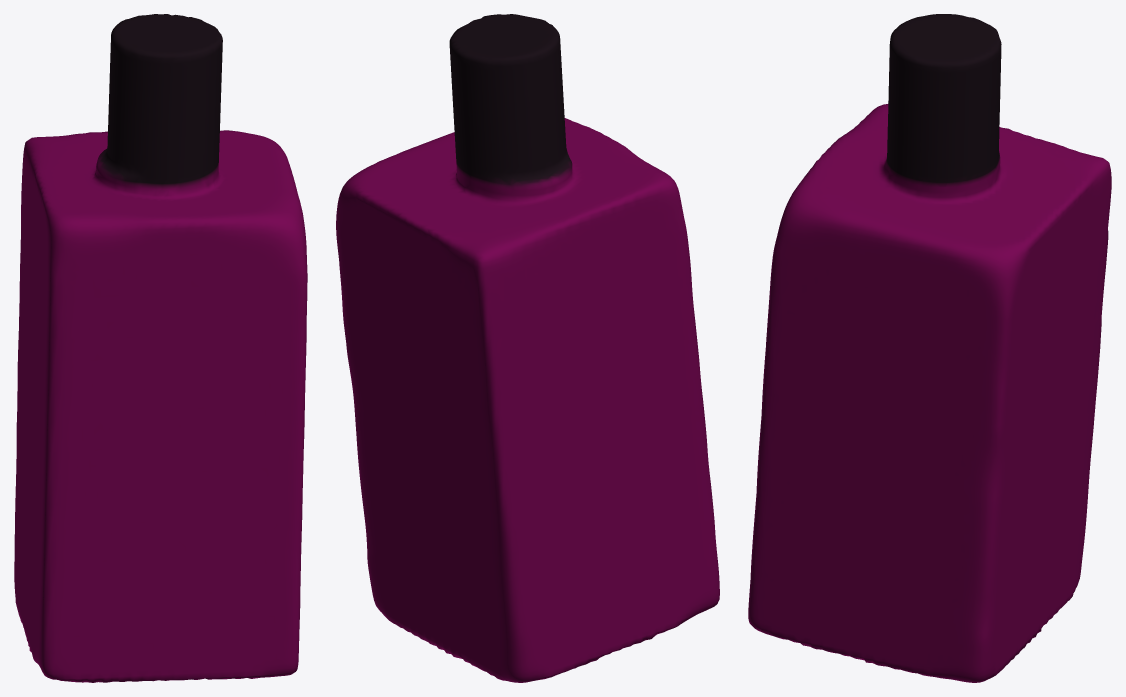
Rendered from TRANK1.fbx.
3 views of the same model, side by side, from view 1: azimuth 30°, elevation 25°; view 2: azimuth 150°, elevation 25°; view 3: azimuth 270°, elevation 25° (orthographic).
Visible parts, largest first — view 1: ReferenceModel_Selection_6; view 2: ReferenceModel_Selection_6; view 3: ReferenceModel_Selection_6.
Boxes of the visible parts, x1=… form: ReferenceModel_Selection_6: x1=14, y1=14, x2=307, y2=682; ReferenceModel_Selection_6: x1=336, y1=14, x2=719, y2=682; ReferenceModel_Selection_6: x1=748, y1=14, x2=1111, y2=682.
Size of the model in its own units: 24.91 by 45.79 by 25.27.
